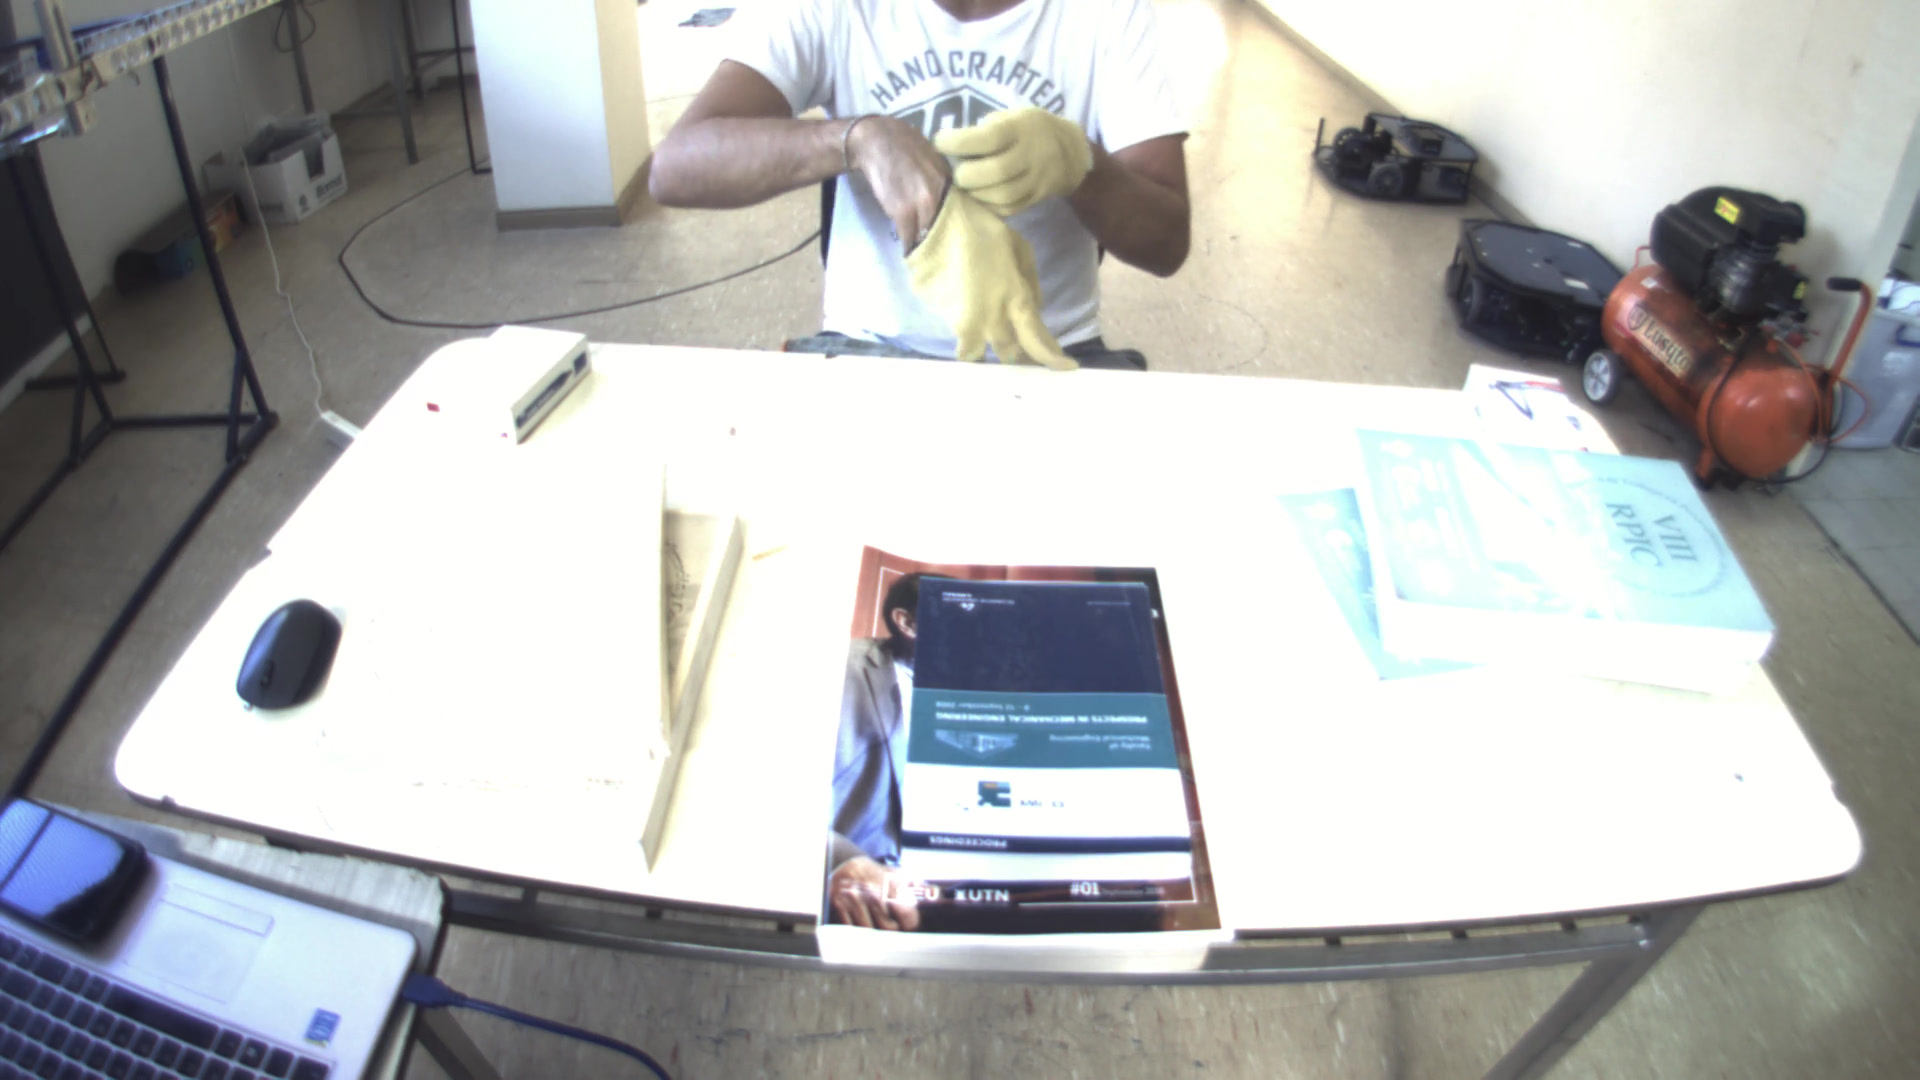hand: (936, 94, 1102, 208), (843, 105, 949, 237)
